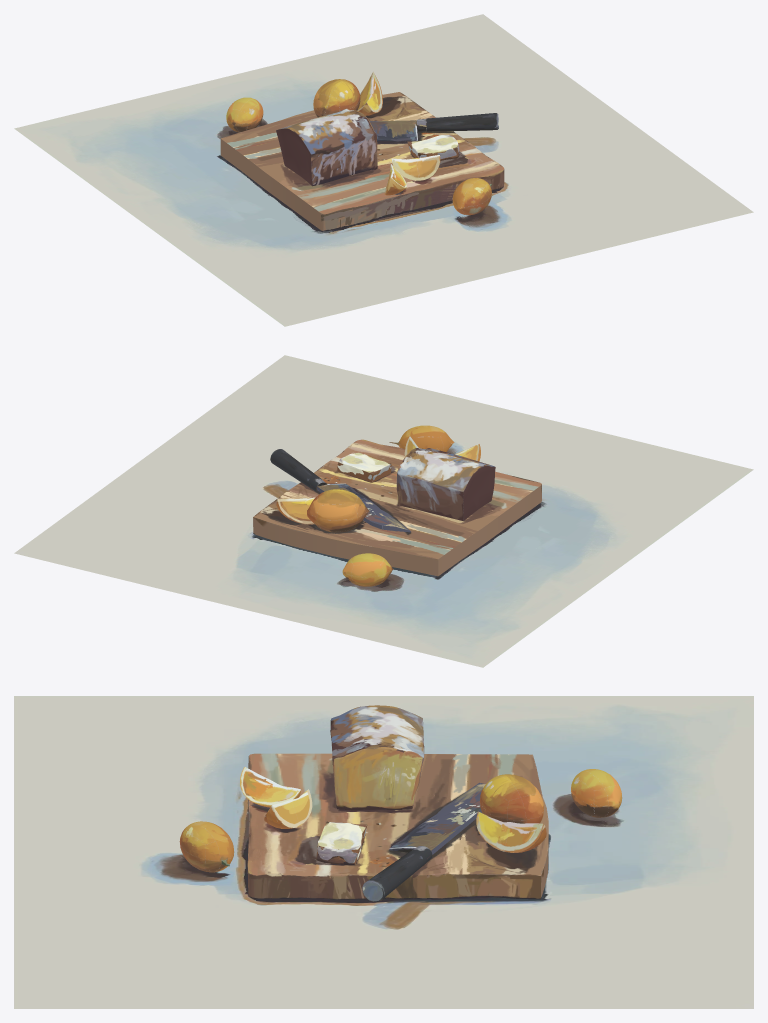
The model's file is small_altar3.glb.
3 renders of one model, top to bottom at view 1: azimuth 30°, elevation 25°; view 2: azimuth 150°, elevation 25°; view 3: azimuth 270°, elevation 25°, orthographic. The views are drawn at different scales.
Parts seen in each view (by area): view 1: Plane_6, Cube_0, Cube.001_1, Cube.004_3, Cylinder.001_5, Sphere.002_8, Sphere.003_9, Cube.007_4; view 2: Plane_6, Cube_0, Cube.001_1, Cube.004_3, Cylinder.001_5, Sphere.003_9, Cube.007_4, Cube.003_2; view 3: Plane_6, Cube_0, Cube.001_1, Cube.004_3, Cylinder.001_5, Sphere.003_9, Sphere.001_7, Cube.007_4, Sphere.002_8, Cube.003_2.
Part boxes in pixels (left/top/right/bottom): Plane_6: left=14, top=14, right=753, bottom=326; Cube_0: left=220, top=92, right=504, bottom=231; Cube.001_1: left=276, top=108, right=377, bottom=186; Cube.004_3: left=226, top=79, right=491, bottom=215; Cylinder.001_5: left=369, top=113, right=498, bottom=141; Sphere.002_8: left=391, top=155, right=440, bottom=180; Sphere.003_9: left=357, top=72, right=382, bottom=115; Cube.007_4: left=409, top=135, right=459, bottom=158; Plane_6: left=14, top=355, right=753, bottom=667; Cube_0: left=253, top=439, right=541, bottom=576; Cube.001_1: left=396, top=448, right=495, bottom=520; Cube.004_3: left=307, top=425, right=454, bottom=586; Cylinder.001_5: left=270, top=449, right=410, bottom=532; Sphere.003_9: left=276, top=497, right=315, bottom=524; Cube.007_4: left=337, top=453, right=391, bottom=480; Cube.003_2: left=337, top=452, right=391, bottom=482; Plane_6: left=14, top=696, right=753, bottom=1008; Cube_0: left=247, top=753, right=548, bottom=899; Cube.001_1: left=330, top=705, right=424, bottom=810; Cube.004_3: left=179, top=769, right=622, bottom=872; Cylinder.001_5: left=362, top=782, right=485, bottom=901; Sphere.003_9: left=476, top=811, right=546, bottom=852; Sphere.001_7: left=240, top=767, right=300, bottom=807; Cube.007_4: left=317, top=822, right=366, bottom=863; Sphere.002_8: left=264, top=789, right=312, bottom=828; Cube.003_2: left=316, top=821, right=367, bottom=864.
Size of the model in its own units: 4.61 by 0.6255 by 4.61.
3 materials, 3 textured.
